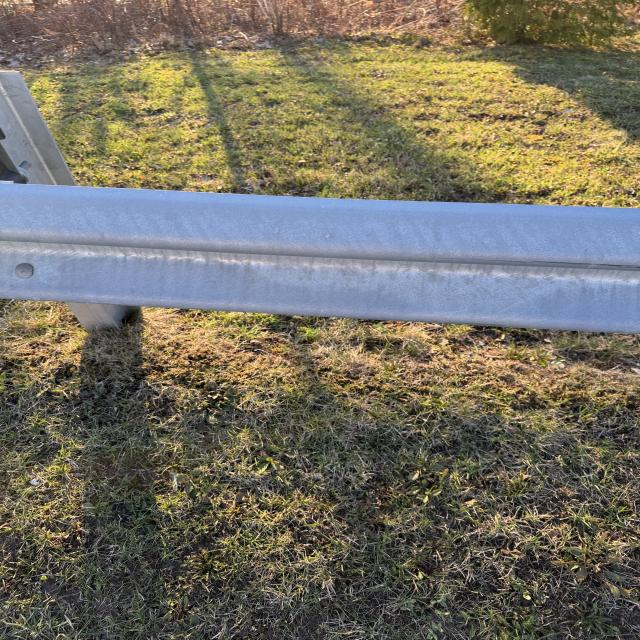Guard rail: (5, 120, 606, 316)
